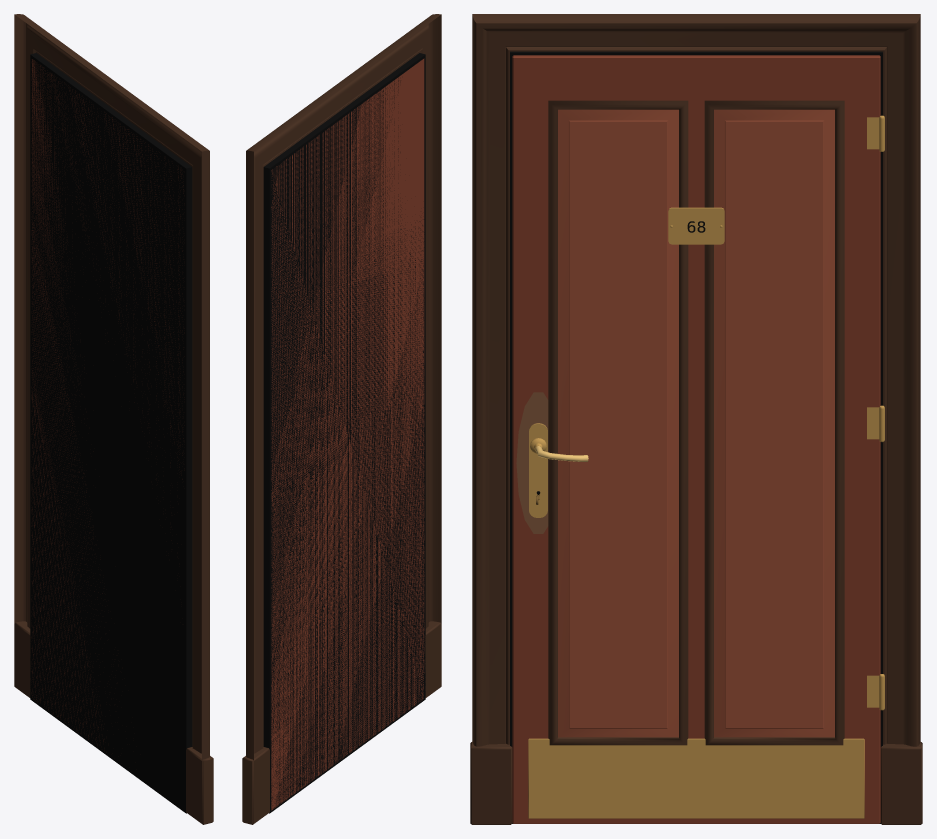
File: hotel_door_e@3.glb
3 views of the same model, side by side, from view 1: azimuth 30°, elevation 25°; view 2: azimuth 150°, elevation 25°; view 3: azimuth 270°, elevation 25° (orthographic). The views are drawn at different scales.
Parts seen in each view (by area): view 1: fuge, bekleidung, blatt; view 2: fuge, blatt, bekleidung; view 3: fuellungen, bekleidung, blatt, kehlleisten, beschlag, fuge, abrieb, nummernschild.
Part boxes in pixels (x1,y1,x2,y2): fuge: [30, 53, 192, 813]; bekleidung: [14, 14, 213, 824]; blatt: [31, 59, 184, 752]; fuge: [263, 53, 425, 813]; blatt: [271, 58, 424, 810]; bekleidung: [242, 14, 441, 824]; fuellungen: [558, 109, 834, 737]; bekleidung: [470, 14, 922, 824]; blatt: [512, 55, 880, 823]; kehlleisten: [548, 100, 844, 745]; beschlag: [528, 115, 884, 818]; fuge: [510, 51, 882, 823]; abrieb: [516, 392, 548, 533]; nummernschild: [668, 207, 724, 244].
Size of the model in its own units: 0.1118 by 2.22 by 1.13.
